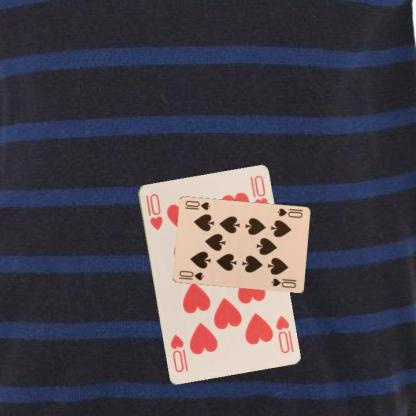10h: (143, 190, 164, 232), (272, 312, 290, 354)
10s: (274, 206, 304, 219), (176, 268, 205, 281)
